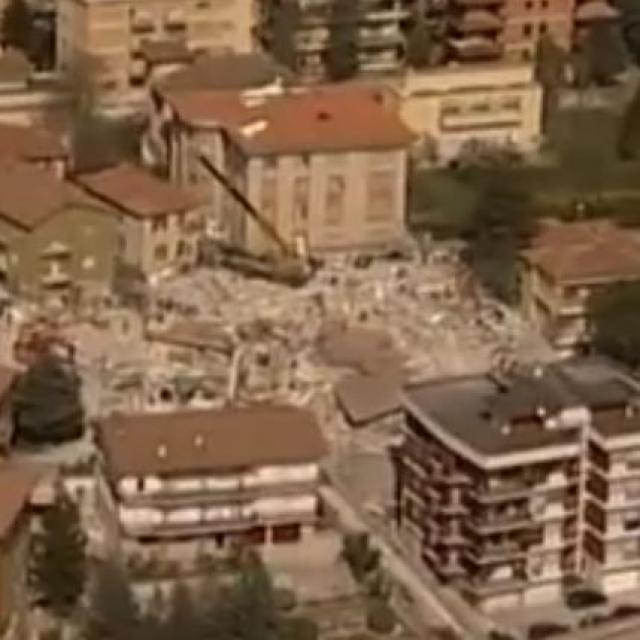collapsed_building: (124, 217, 501, 429)
